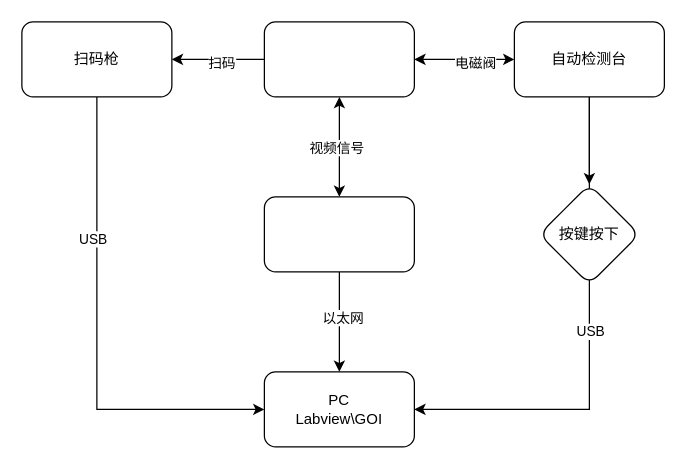
This 686x469 diagram has some shape labels left out. Here are the shapes that lost their labels. From the top down, the box of each, then its label:
(263, 21, 414, 97): 显示屏检测台
(263, 196, 414, 272): RK3568工装板
